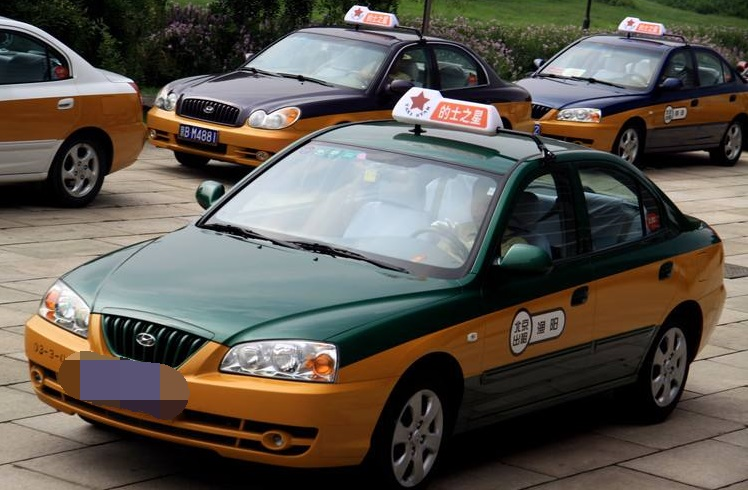taxi: (23, 86, 731, 490)
